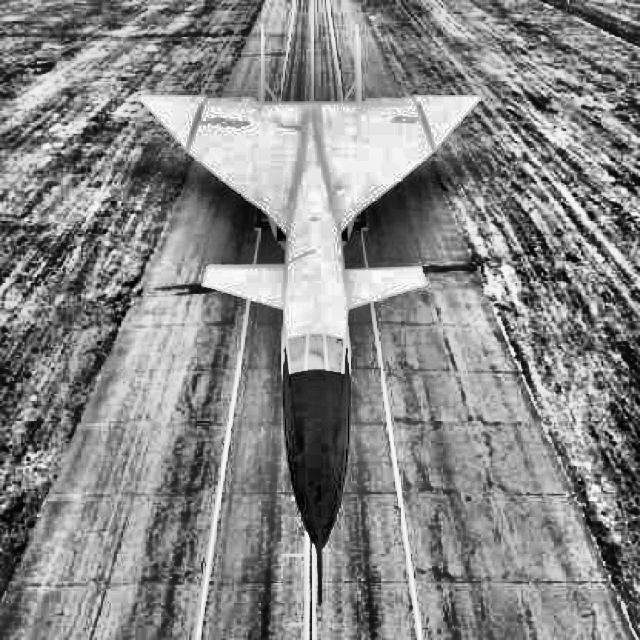XB70: (138, 23, 480, 605)
